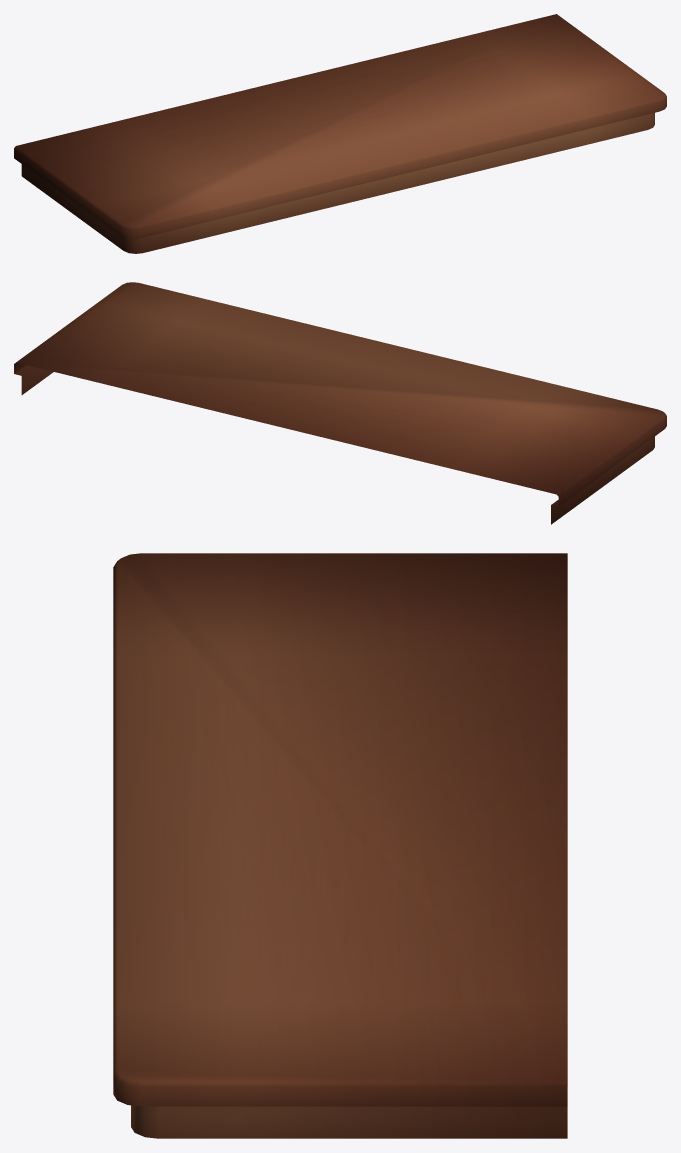
File: FrontStep.fbx
3 views of the same model, one above another, from view 1: azimuth 30°, elevation 25°; view 2: azimuth 150°, elevation 25°; view 3: azimuth 270°, elevation 25° (orthographic). The views are drawn at different scales.
Parts seen in each view (by area): view 1: FrontStep; view 2: FrontStep; view 3: FrontStep.
Part boxes in pixels (box(x1,y1,x2,y2)): FrontStep: box(14, 14, 666, 253); FrontStep: box(14, 282, 666, 524); FrontStep: box(113, 553, 567, 1138).
Bounding box in the file's own units: 1440 × 80 × 520.
